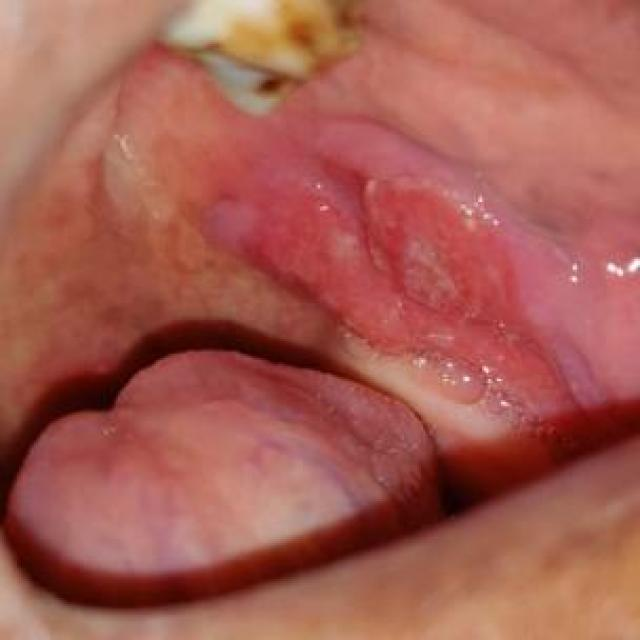cancer-detection: (198, 144, 602, 426)
processing_area: (0, 4, 638, 560)
